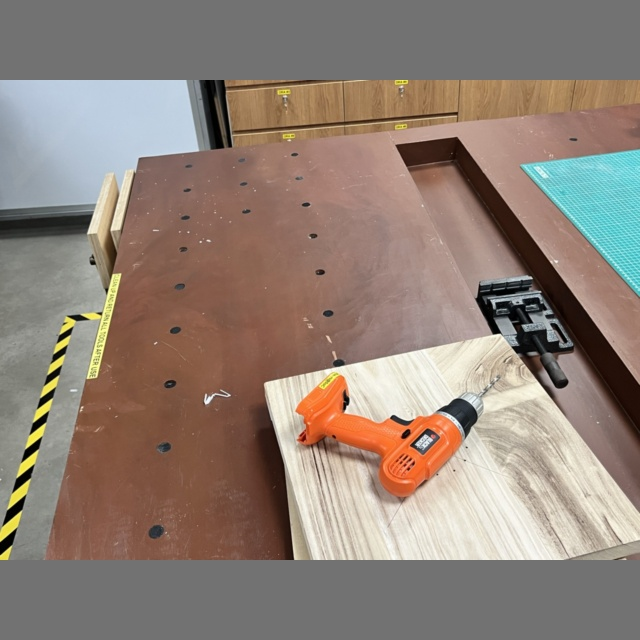drill: (296, 373, 499, 498)
